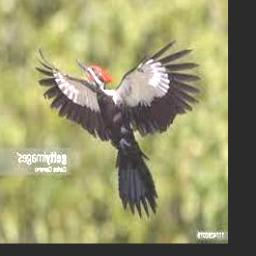Woodpecker: (35, 39, 200, 218)
